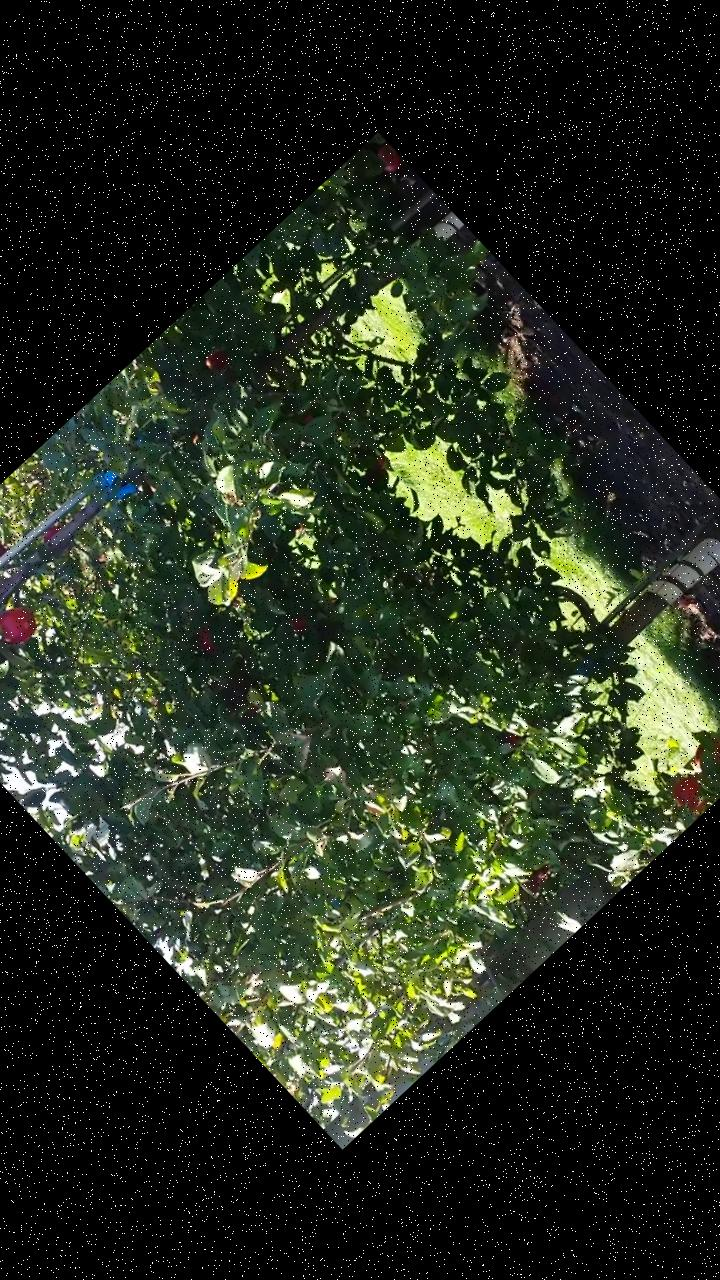Apple: (0, 596, 45, 657), (666, 770, 714, 820), (681, 728, 719, 780), (519, 860, 558, 899), (198, 344, 234, 380), (192, 628, 221, 658), (285, 610, 314, 640), (35, 521, 64, 549), (494, 726, 523, 754), (0, 533, 10, 574), (297, 411, 314, 428)
